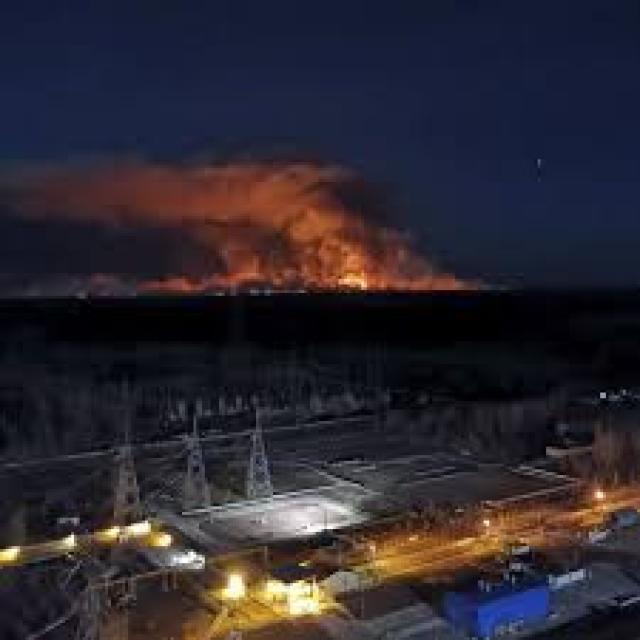Smoke: (0, 164, 521, 289)
